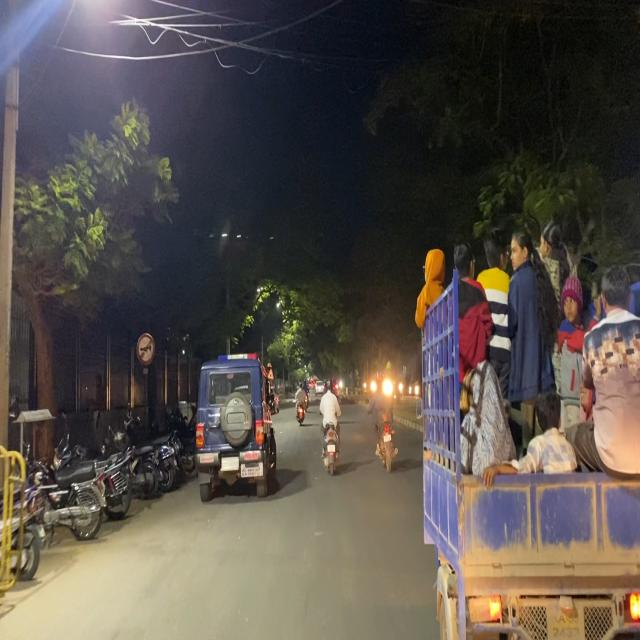bien_cam: (136, 332, 156, 368)
